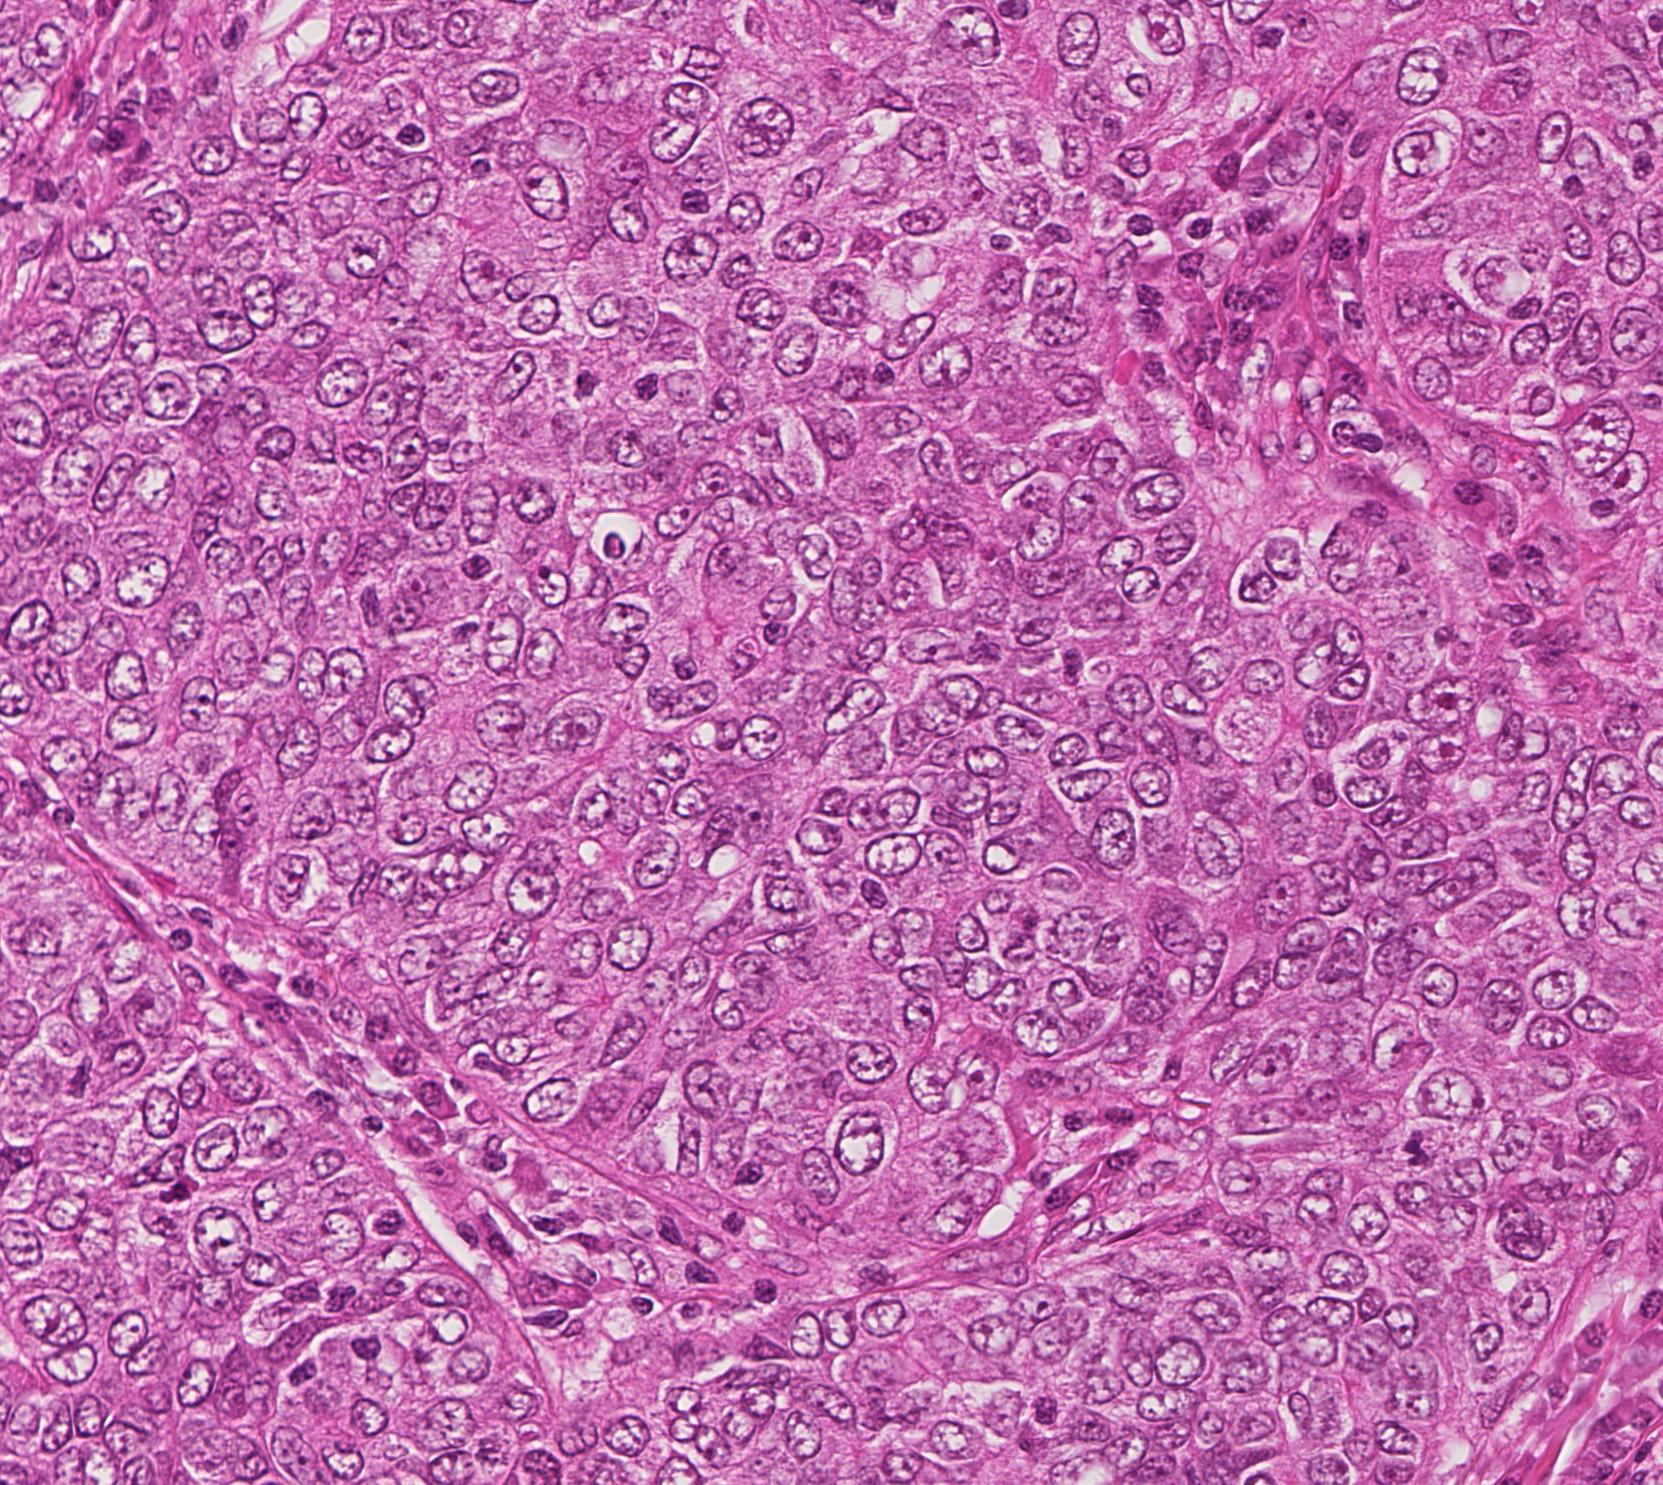mitosis: (1383, 1121, 1444, 1181)
